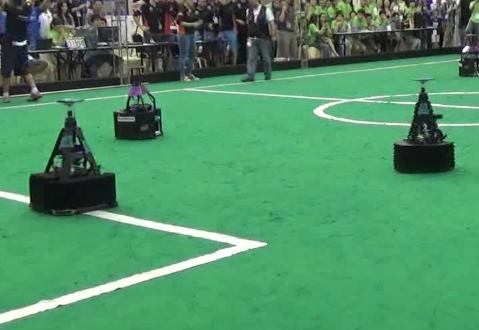robot: (27, 98, 118, 215), (391, 76, 460, 175), (111, 64, 164, 142)
